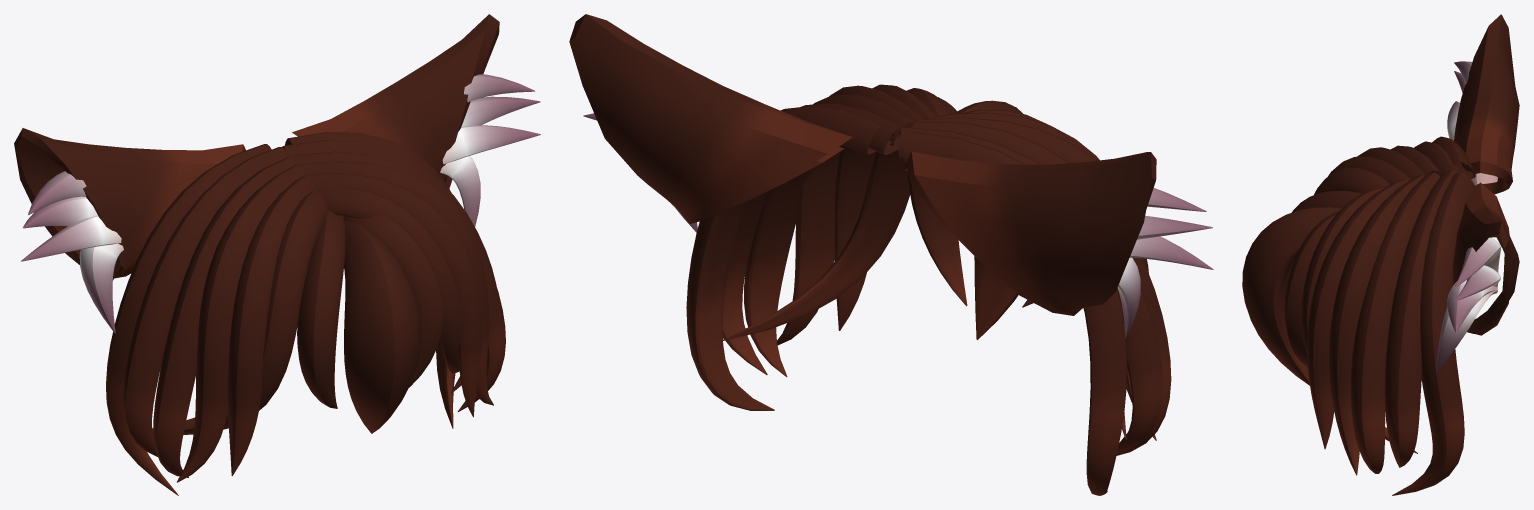
File: Rambut Kaelen Blackthorn.fbx
3 views of the same model, side by side, from view 1: azimuth 30°, elevation 25°; view 2: azimuth 150°, elevation 25°; view 3: azimuth 270°, elevation 25° (orthographic). The views are drawn at different scales.
Visible parts, largest first — view 1: Rambut Kaelen; view 2: Rambut Kaelen; view 3: Rambut Kaelen.
Part boxes in pixels (<box>): Rambut Kaelen: <box>14,14,540,495</box>; Rambut Kaelen: <box>569,14,1213,495</box>; Rambut Kaelen: <box>1242,14,1519,495</box>.
Size of the model in its own units: 358 by 229 by 182.
